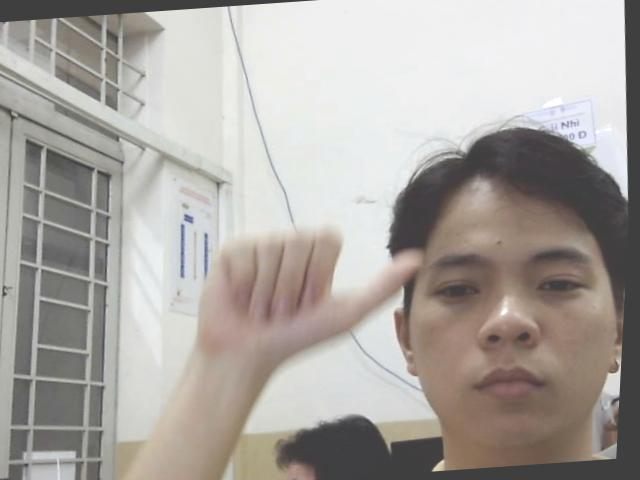A: (193, 216, 433, 361)
